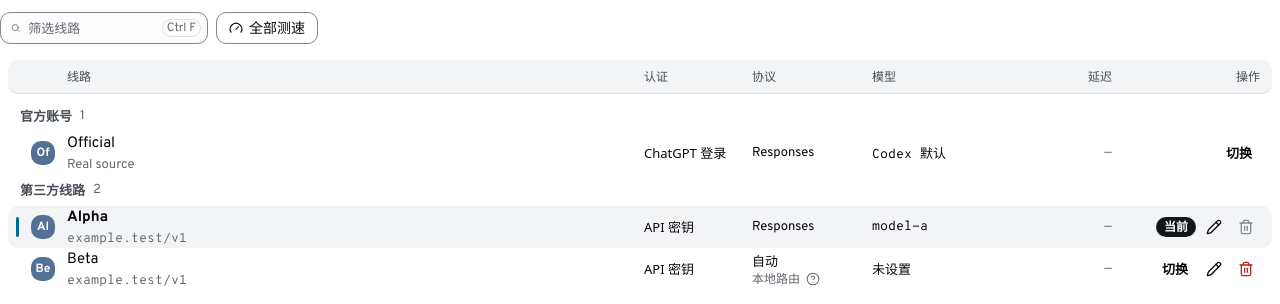
Test: connected provider line table › filters by real config and focuses search with Ctrl F
Press f
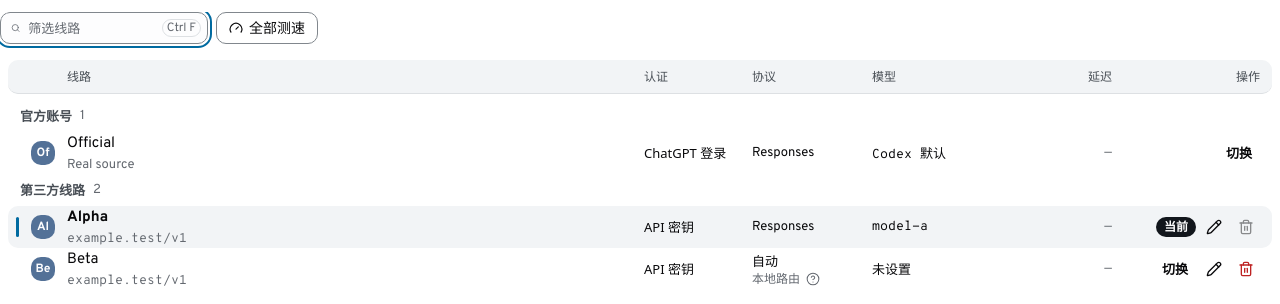
Type "model-a" into the field named "筛选线路".
click(91, 28); type("model-a")  # box [28,18,154,38]
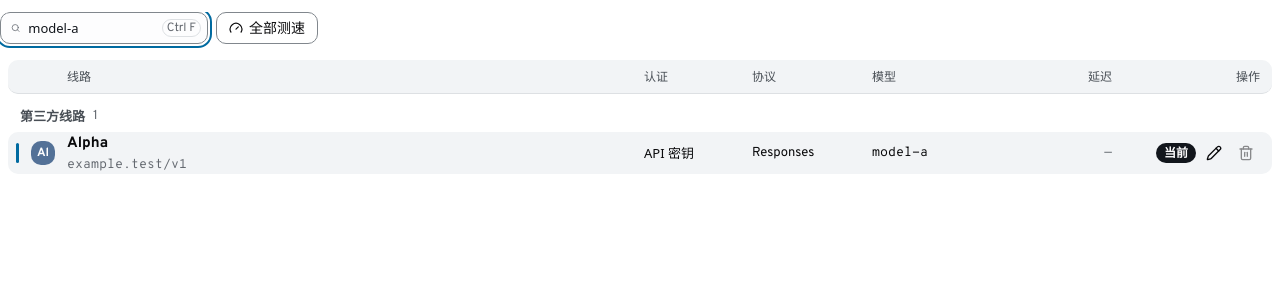
Expected: the text "Alpha" is shown, [67,132,108,154]
Now the button "Beta" is gone
Replace the text in the field named "筛选线路" with "not-configured" at (91, 28), box [28,18,154,38]
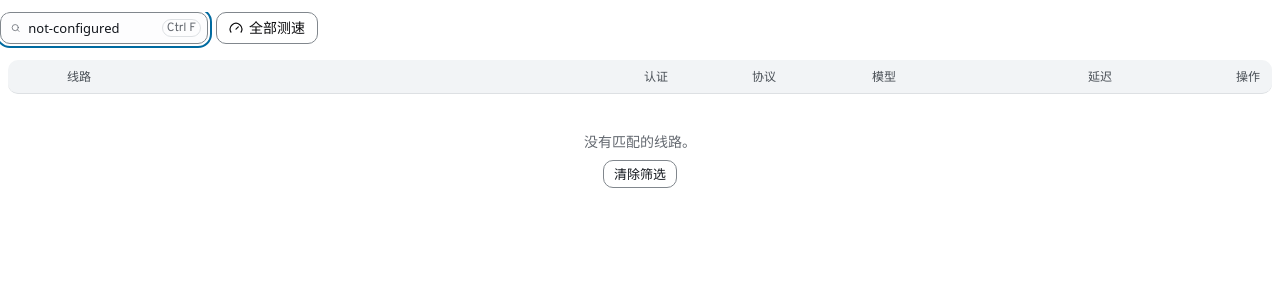
Now the text "没有匹配的线路。" is shown, box [584,132,696,152]
